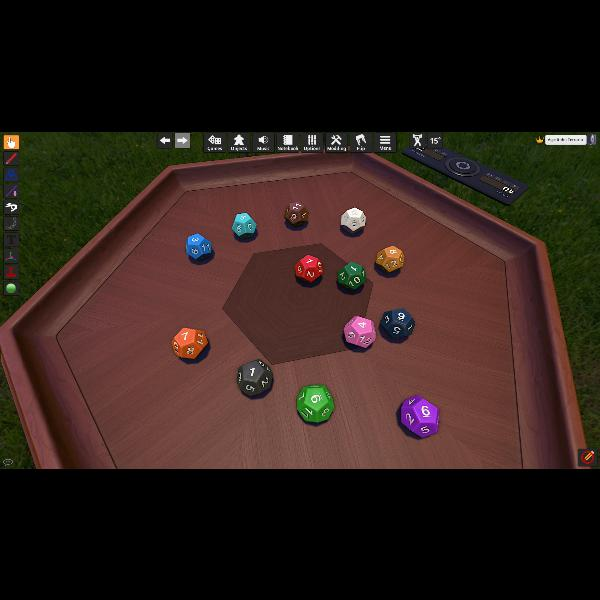d12: (402, 394, 440, 436), (296, 384, 334, 422), (236, 360, 272, 397), (172, 326, 208, 360), (343, 316, 375, 348), (380, 308, 412, 338), (338, 261, 366, 289), (374, 245, 401, 273), (294, 254, 321, 282), (186, 231, 212, 260), (340, 206, 366, 234), (233, 211, 257, 237), (284, 200, 306, 225)
